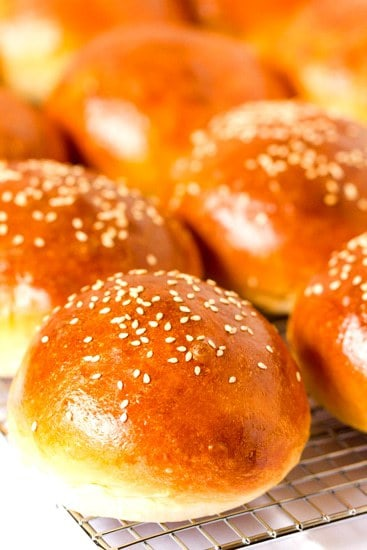hamburger_buns: (13, 277, 318, 528), (193, 111, 354, 294)
